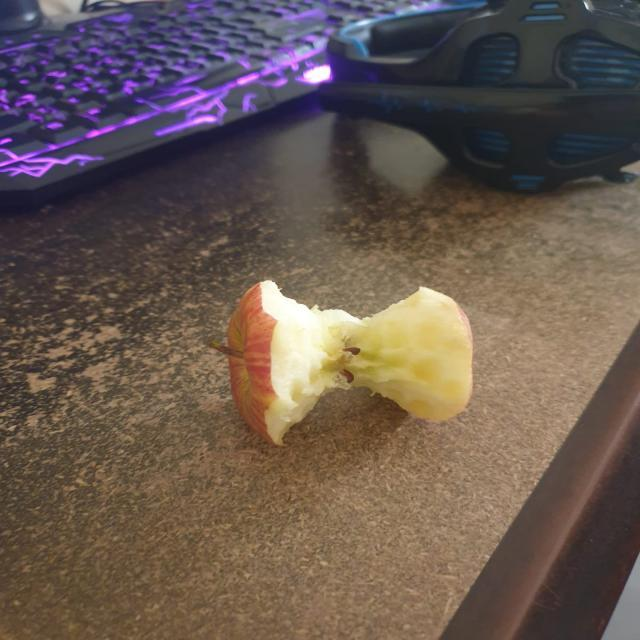apple: (198, 282, 492, 446)
